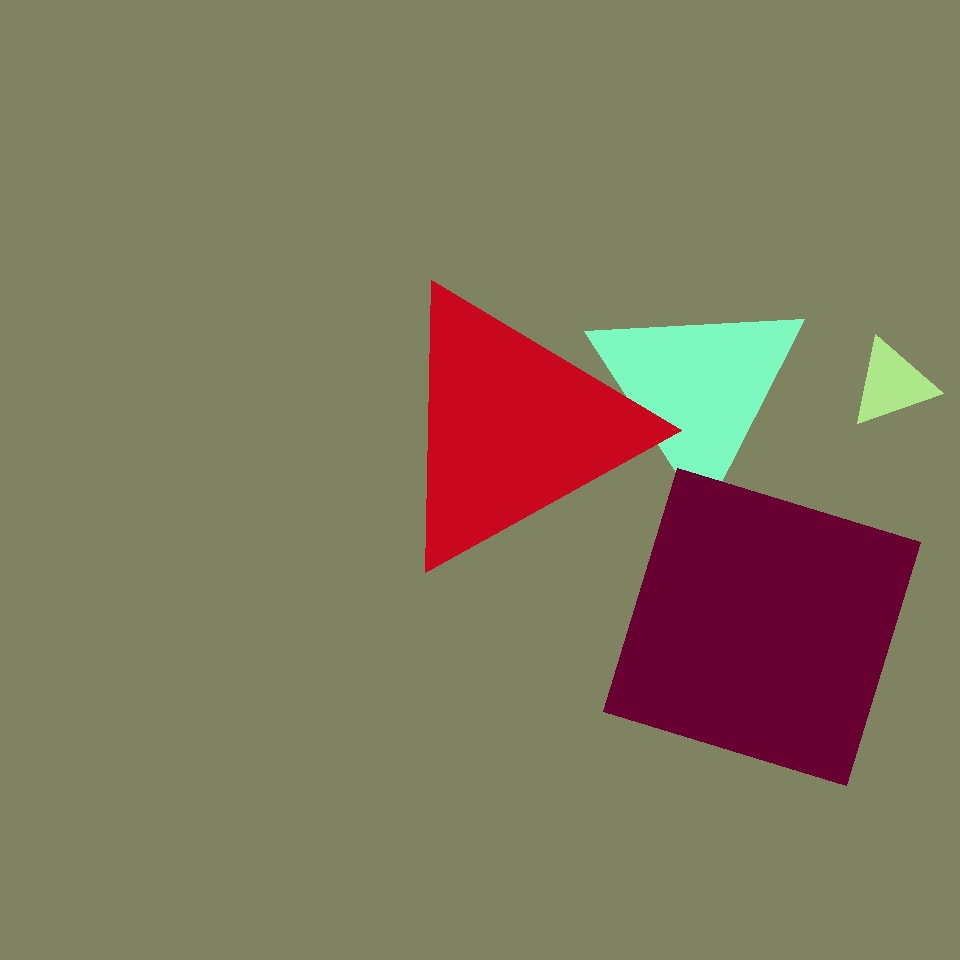circle: (385, 282, 641, 574), (588, 291, 808, 487), (849, 340, 935, 429)
square: (604, 468, 920, 785)
